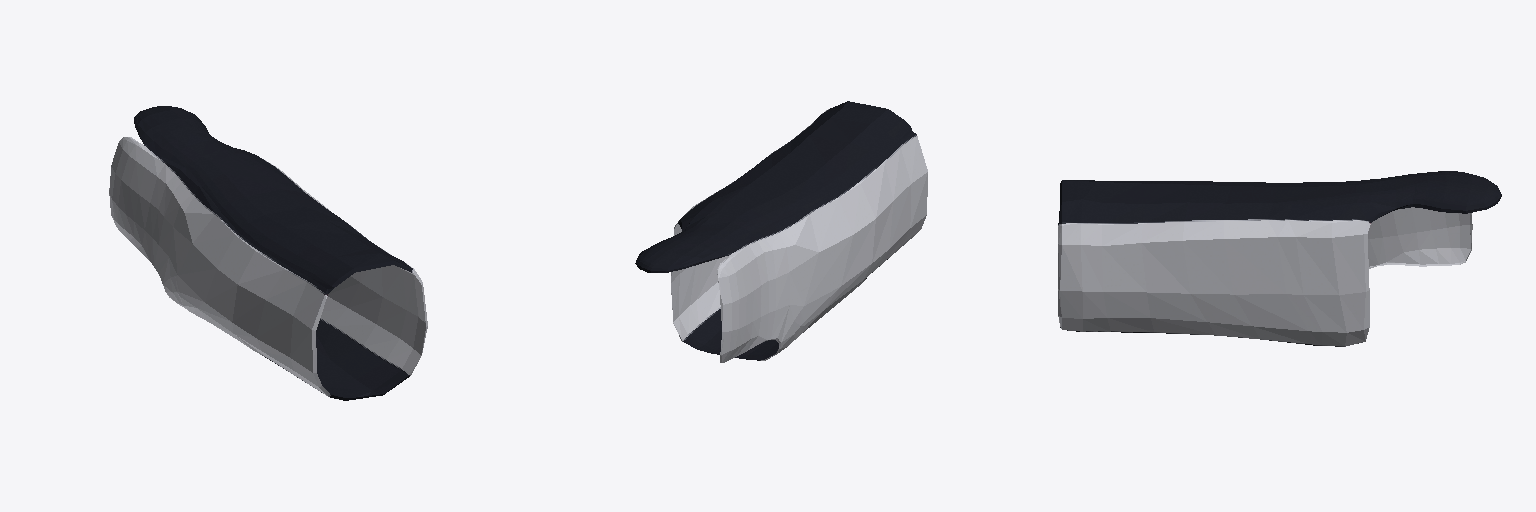
The picture shows the model from 3 angles: view 1: azimuth 30°, elevation 25°; view 2: azimuth 150°, elevation 25°; view 3: azimuth 270°, elevation 25°; orthographic projection.
Parts seen in each view (by area): view 1: L_SHOULDER_Y-467-FACES; view 2: L_SHOULDER_Y-467-FACES; view 3: L_SHOULDER_Y-467-FACES.
Boxes of the visible parts, x1,y1,x2,y2 form: L_SHOULDER_Y-467-FACES: [109, 106, 427, 400]; L_SHOULDER_Y-467-FACES: [635, 101, 927, 362]; L_SHOULDER_Y-467-FACES: [1058, 171, 1501, 346].
Size of the model in its own units: 0.0782 by 0.0876 by 0.2351.
1 materials, 1 textured.